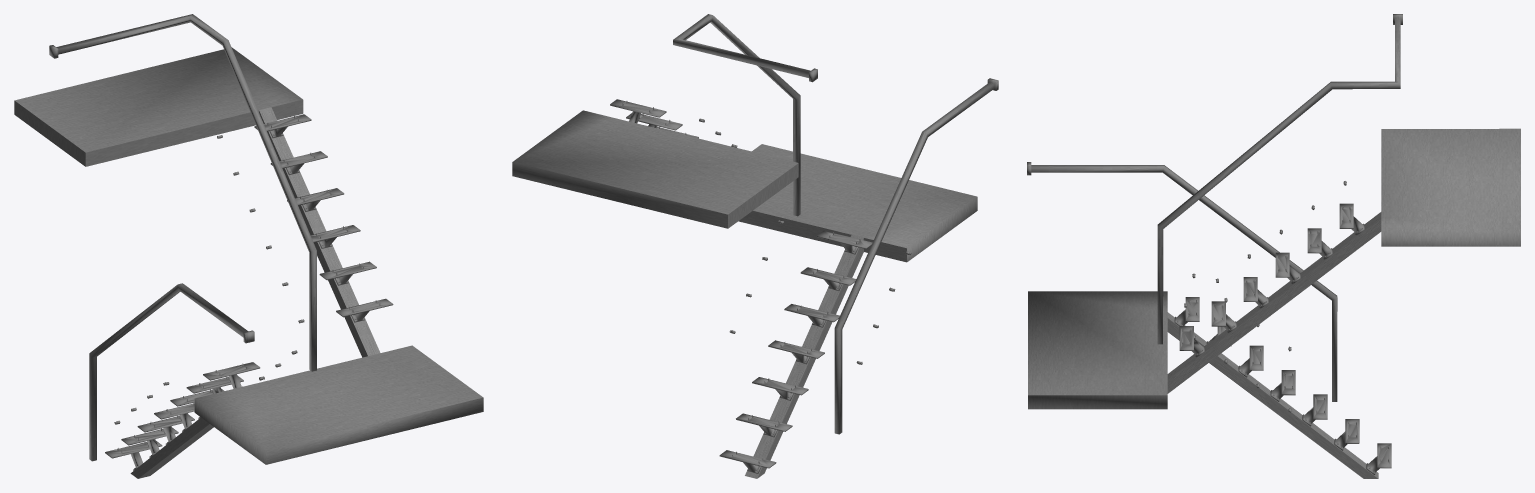
The model's file is metal.fbx.
The picture shows the model from 3 angles, left to right: view 1: azimuth 30°, elevation 25°; view 2: azimuth 150°, elevation 25°; view 3: azimuth 270°, elevation 25°; orthographic projection. The views are drawn at different scales.
Visible parts, largest first — view 1: metal; view 2: metal; view 3: metal.
Part boxes in pixels (left/top/right/bottom): metal: left=14, top=14, right=483, bottom=478; metal: left=512, top=14, right=998, bottom=478; metal: left=1027, top=14, right=1520, bottom=478.
Size of the model in its own units: 230 by 394 by 414.
Materials: 1 (1 with a texture image).
